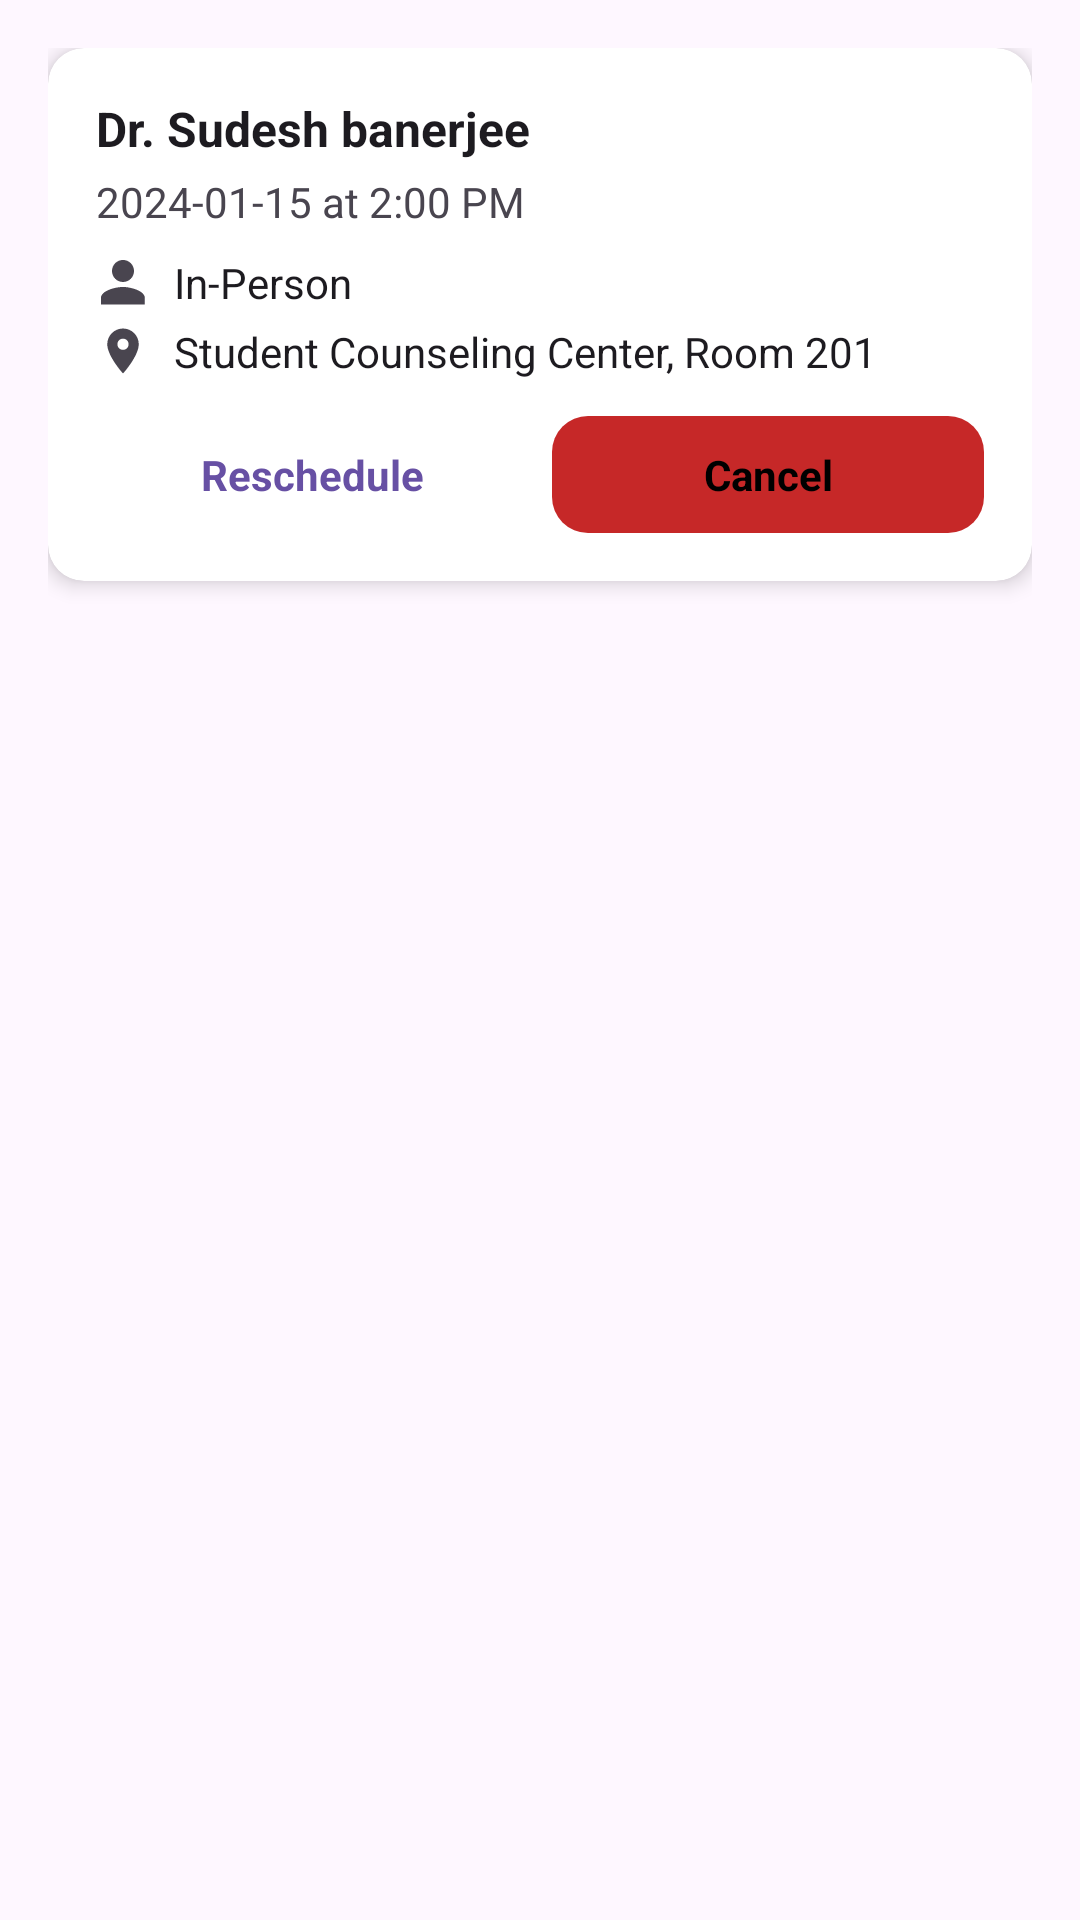

Screen size 1080*1920. Icon name, then its center in pixels as point (x, y):
location: point (123, 350)
